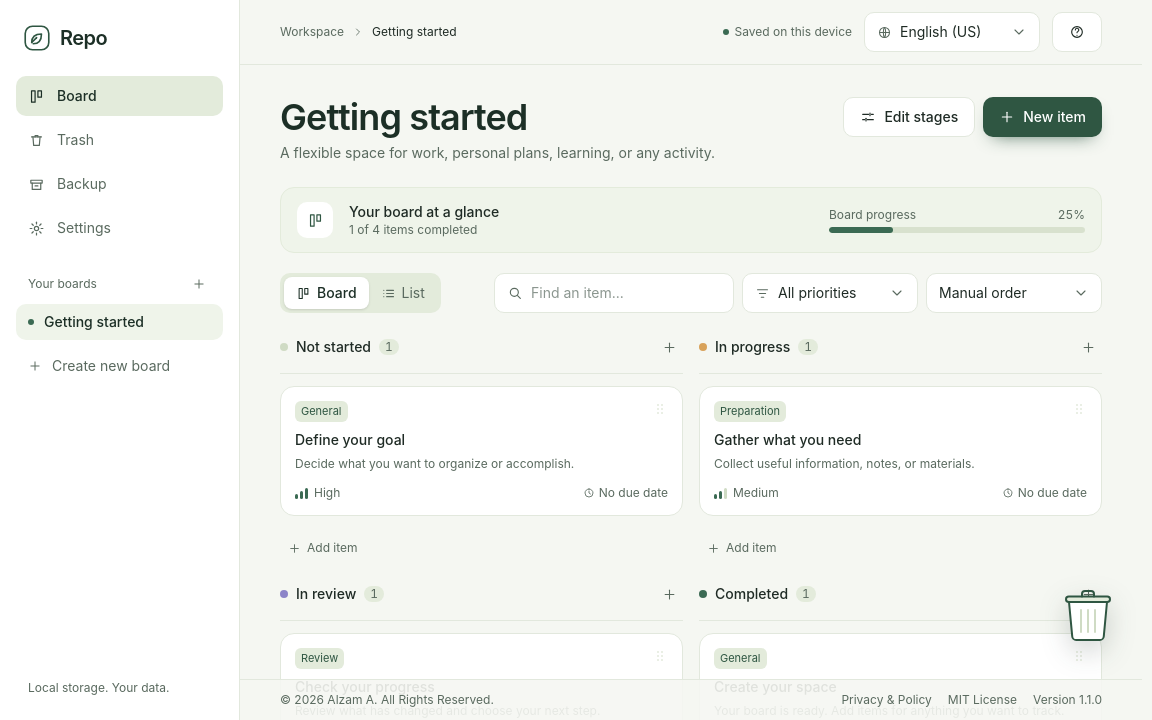
Test: note copy button › shows Copy failed when the clipboard rejects
Expected: the heading "Getting started" is shown, [280,95,527,139]
Click the button "New item": (1043, 117) [983,97,1102,137]
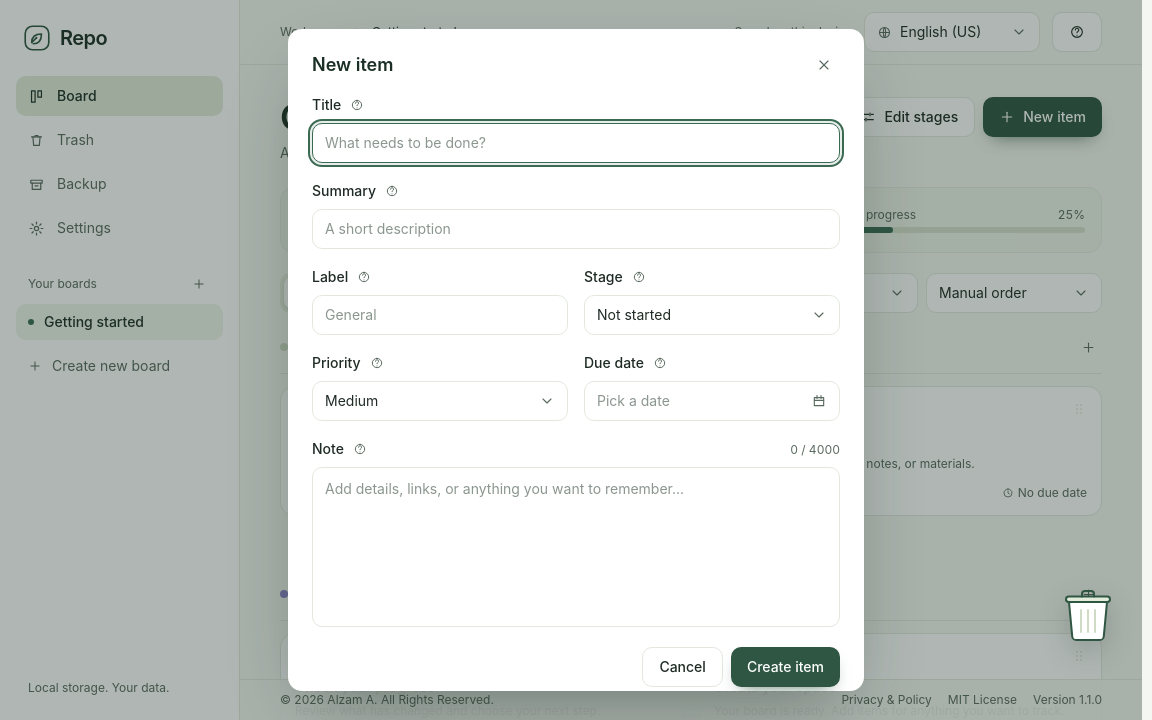
Result: the field labelled "Title" is shown at [312,123,840,163]
In the text box labelled "Note": (576, 547) [312,467,840,627], type "Something to copy."
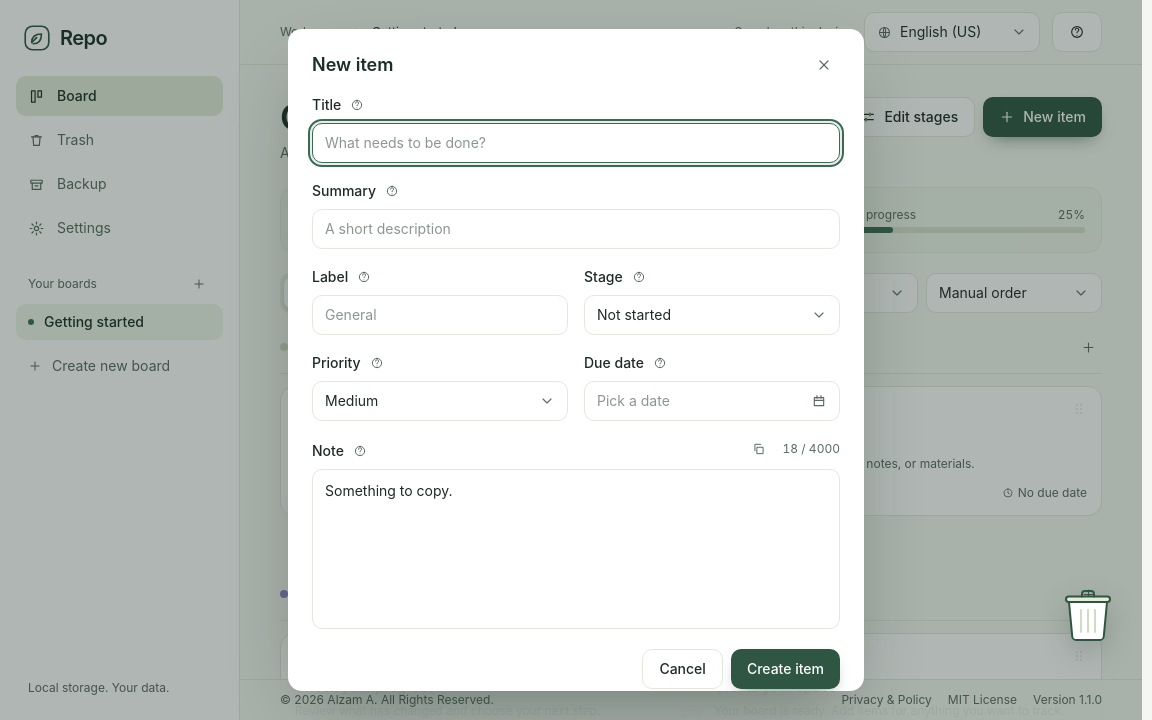
Click the button named "Copy note": (758, 449) [746,437,770,461]
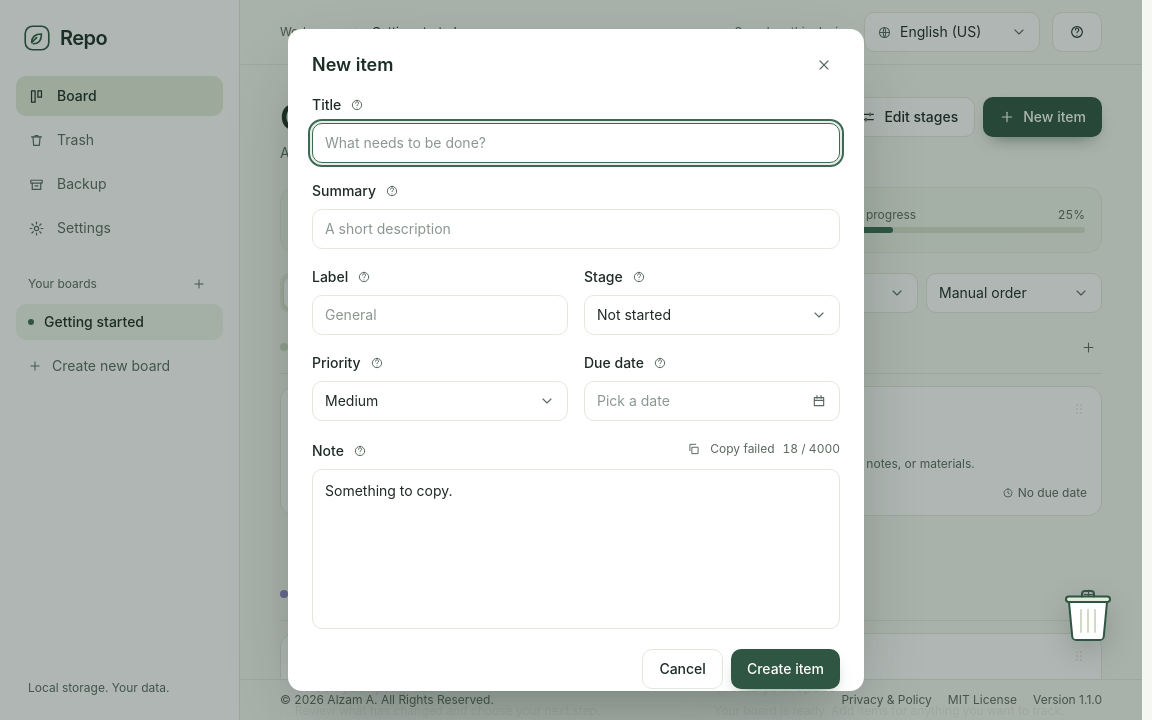
Result: the message reads "Copy failed" at [710,441,774,456]
